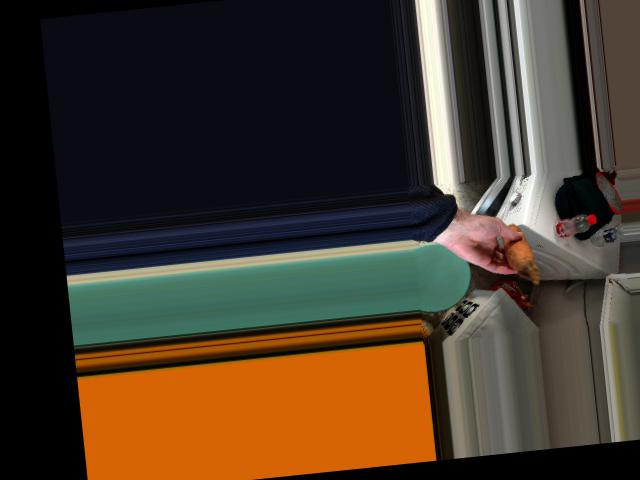sweet_potato: (503, 229, 534, 270)
